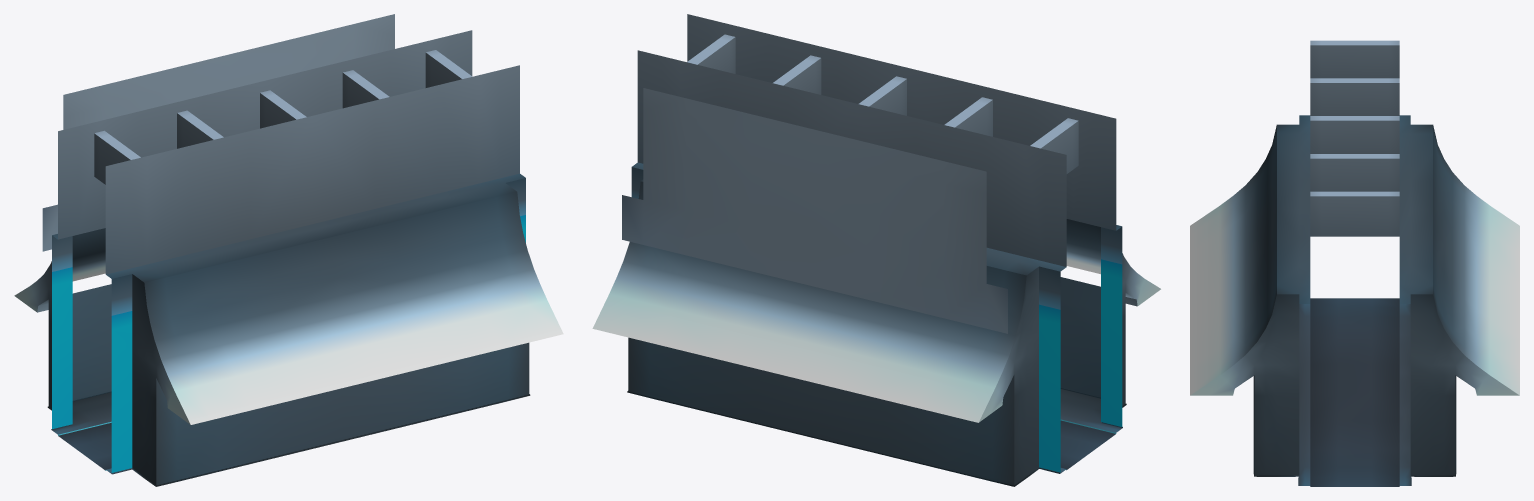
File: M_Hallway.fbx
3 renders of one model, left to right at view 1: azimuth 30°, elevation 25°; view 2: azimuth 150°, elevation 25°; view 3: azimuth 270°, elevation 25°, orthographic. The views are drawn at different scales.
Visible parts, largest first — view 1: Room.012; view 2: Room.012; view 3: Room.012.
Part boxes in pixels (box(x1,y1,x2,y2)): Room.012: box(14, 14, 563, 486); Room.012: box(592, 14, 1160, 486); Room.012: box(1190, 40, 1519, 486).
Size of the model in its own units: 2000 by 1405 by 1477.
